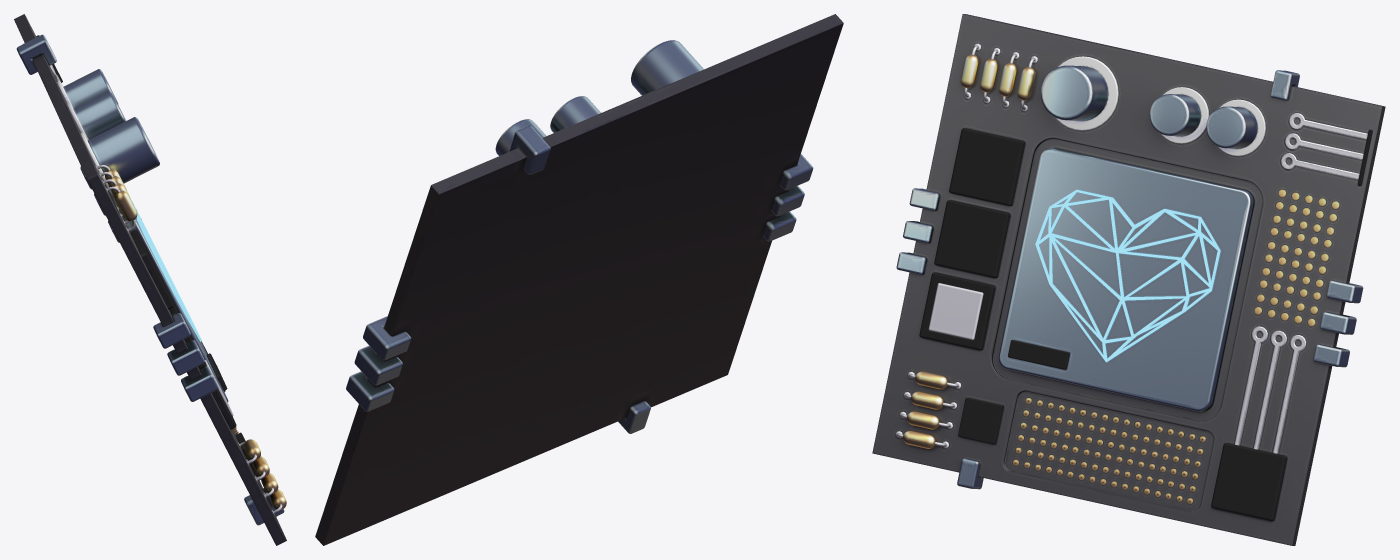
File: technologies.glb
3 renders of one model, left to right at view 1: azimuth 30°, elevation 25°; view 2: azimuth 150°, elevation 25°; view 3: azimuth 270°, elevation 25°, orthographic. The views are drawn at different scales.
Parts seen in each view (by area): view 1: technologies; view 2: technologies; view 3: technologies.
Boxes of the visible parts, x1,y1,x2,y2 form: technologies: (14, 14, 286, 545); technologies: (315, 14, 843, 545); technologies: (872, 14, 1385, 545).
Size of the model in its own units: 0.5595 by 0.7391 by 0.8606.
Materials: 4 (2 with a texture image).
